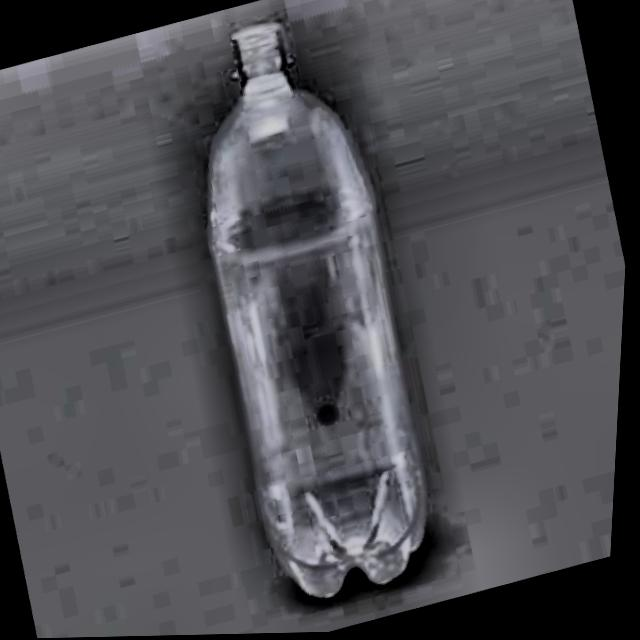Bottles: (121, 0, 515, 622)
